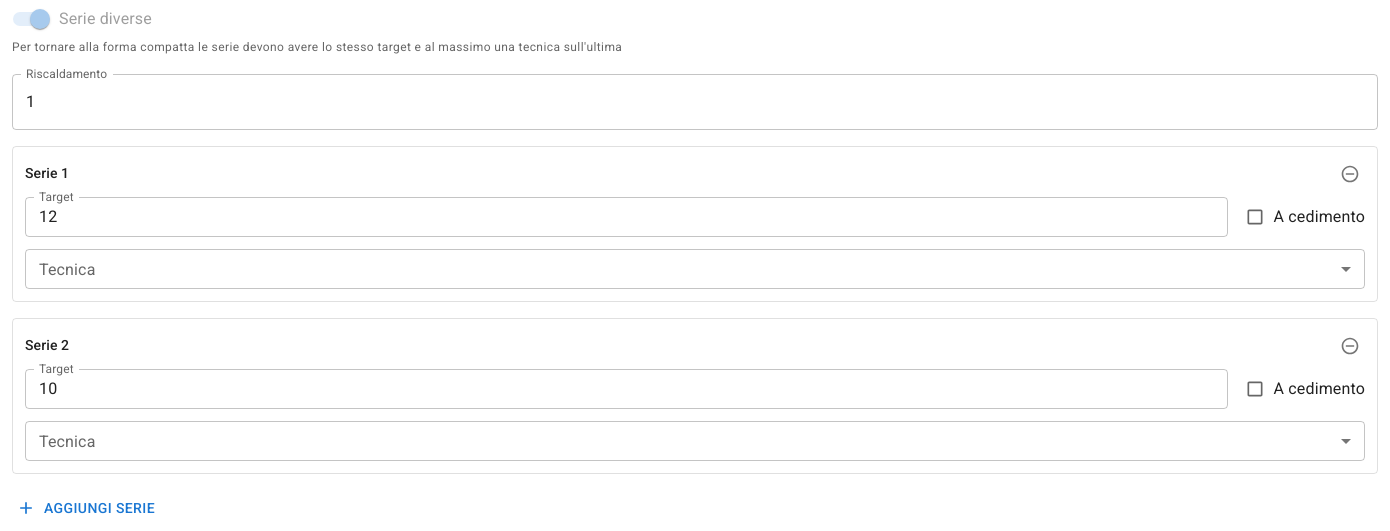
PlannedSetsEditor · serie diverse › con serie di nuovo uguali l'interruttore si spegne e torna la forma compatta
The width and height of the screenshot is (1390, 531).
Replace the text in the field labelled "Target" below "Serie 2" with "12" at [626, 389], box x1=25 y1=369 x2=1228 y2=409
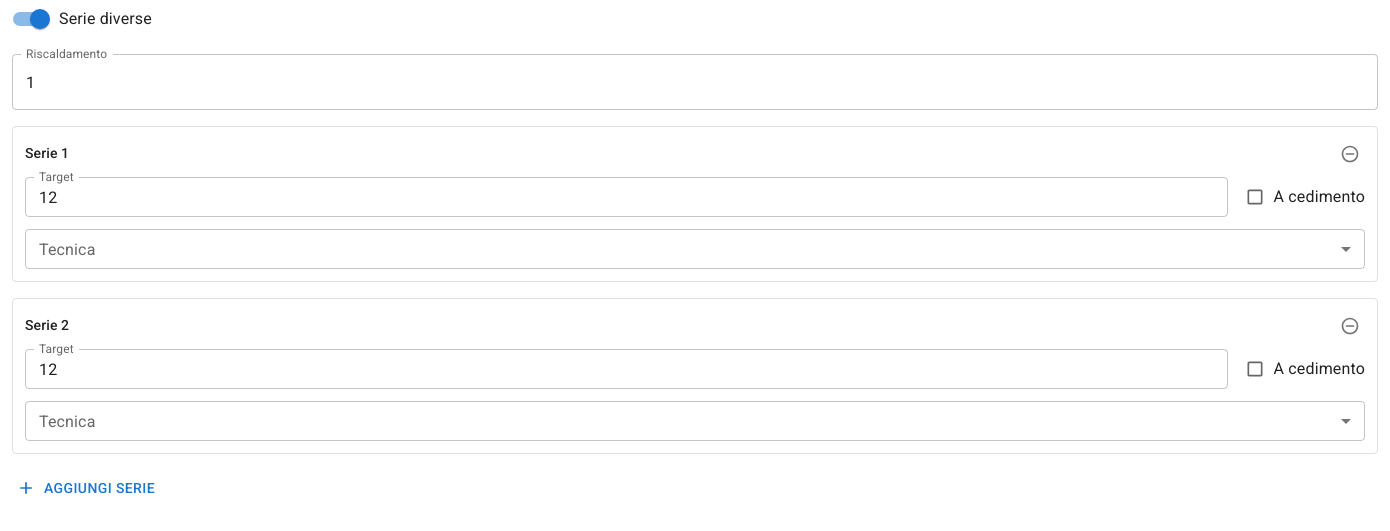
Now the checkbox labelled "Serie diverse" is enabled
Click the checkbox labelled "Serie diverse".
click(82, 19)  # box x1=13 y1=9 x2=152 y2=29
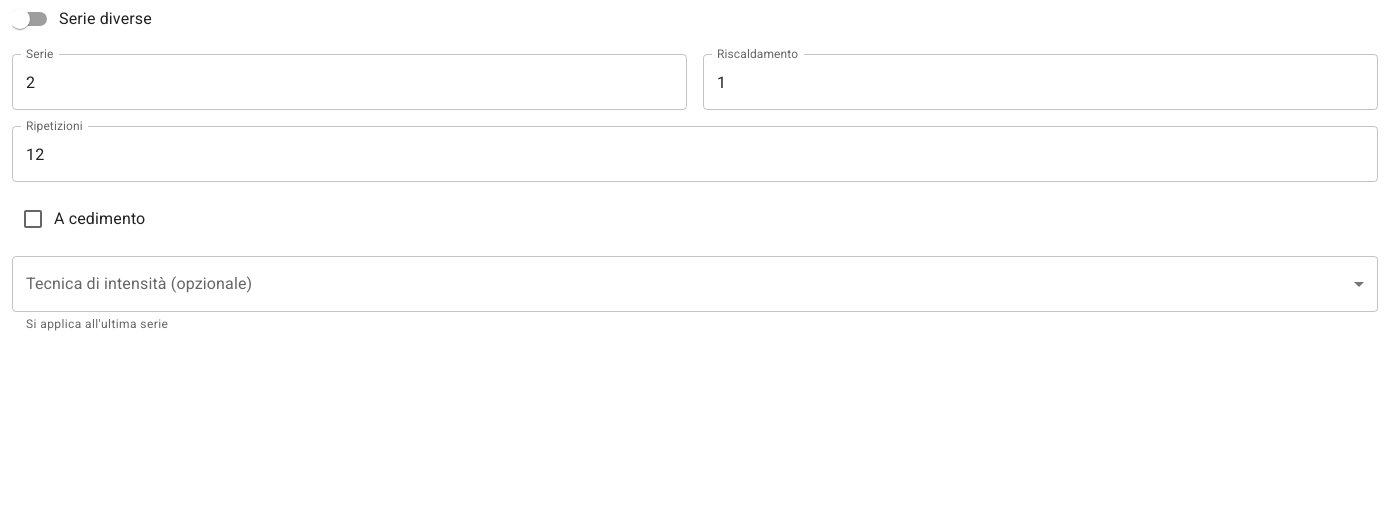
Now the field labelled "Serie" holds "2", box x1=12 y1=54 x2=687 y2=110
Now the field labelled "Ripetizioni" holds "12", box x1=12 y1=126 x2=1378 y2=182
